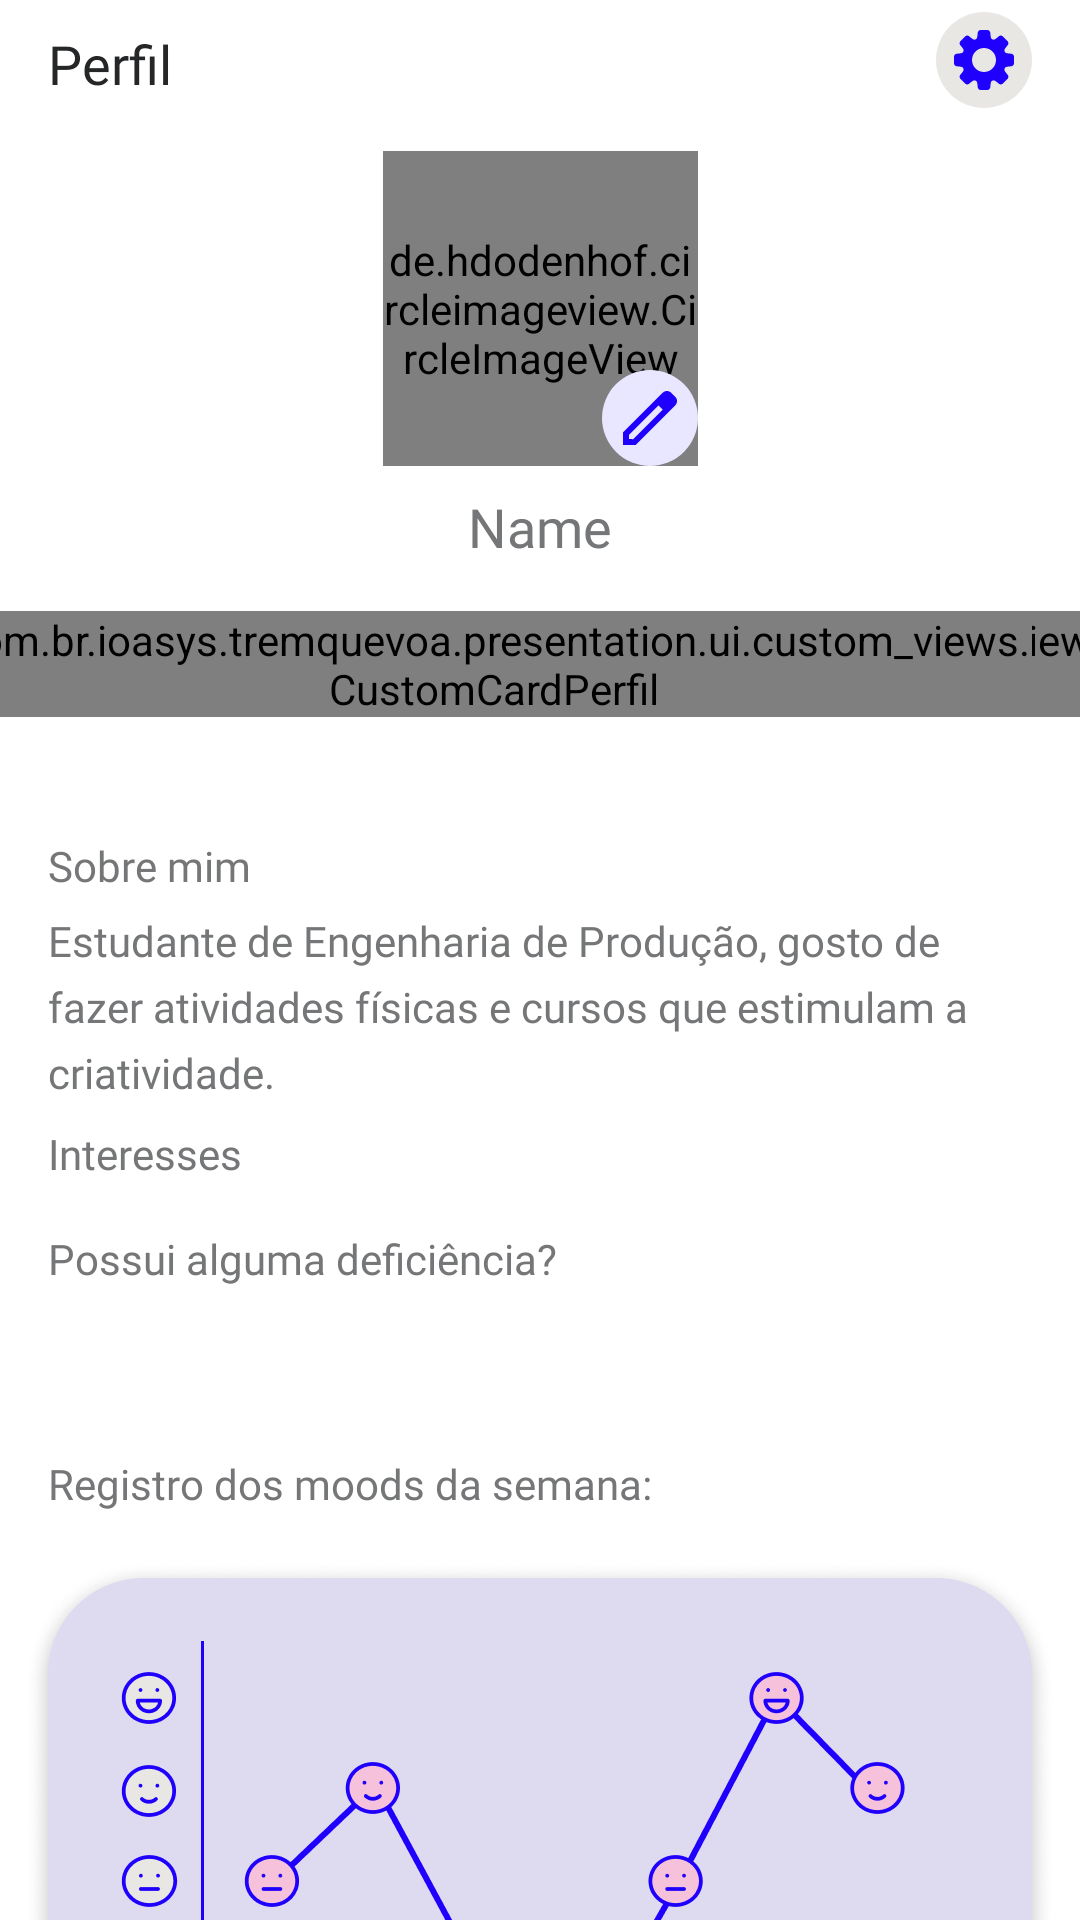

Icons on this 1080px×1920px Android screen, each with the point to tap as (x,y):
edit: (650,418)
settings: (984,60)
